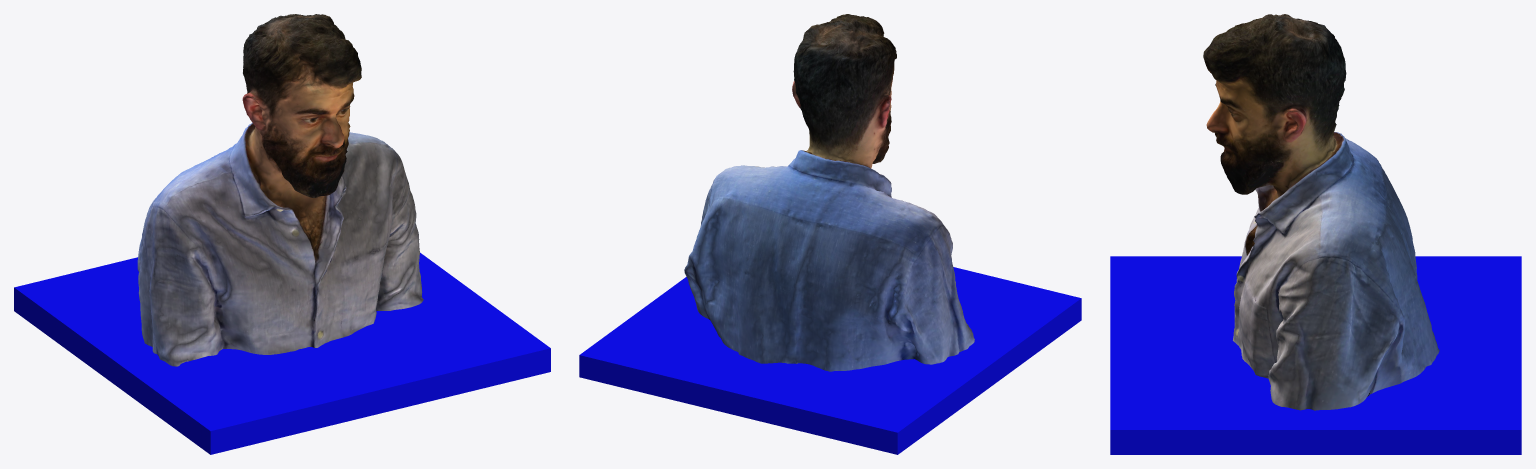
File: busto emilio.gltf
3 views of the same model, side by side, from view 1: azimuth 30°, elevation 25°; view 2: azimuth 150°, elevation 25°; view 3: azimuth 270°, elevation 25° (orthographic). The views are drawn at different scales.
Parts seen in each view (by area): view 1: Cube.004; view 2: Cube.004; view 3: Cube.004.
Part boxes in pixels (x1,y1,x2,y2): Cube.004: (14,14,550,454); Cube.004: (579,14,1081,454); Cube.004: (1110,14,1521,454).
Size of the model in its own units: 60 by 56.56 by 60.
2 materials, 1 textured.
